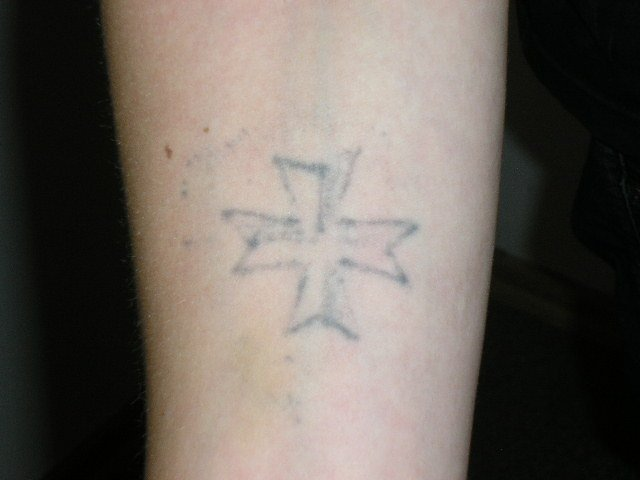tatu9_krest: (224, 156, 427, 336)
